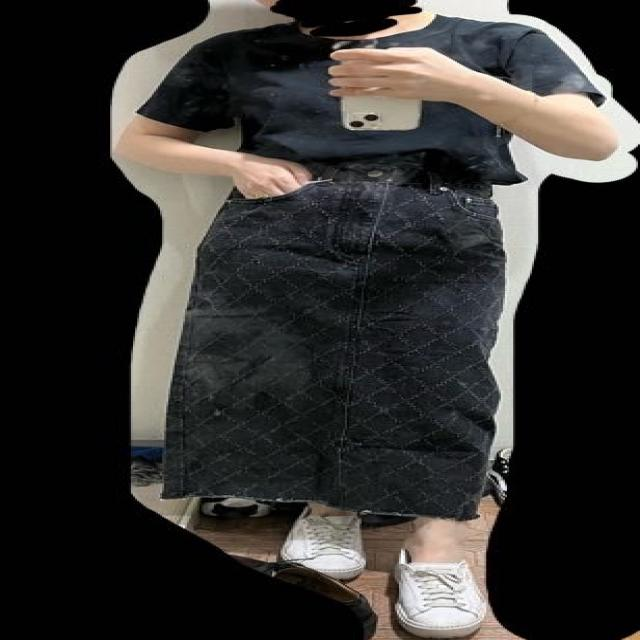shortsleeve: (131, 17, 605, 184)
skirt: (162, 157, 505, 521)
